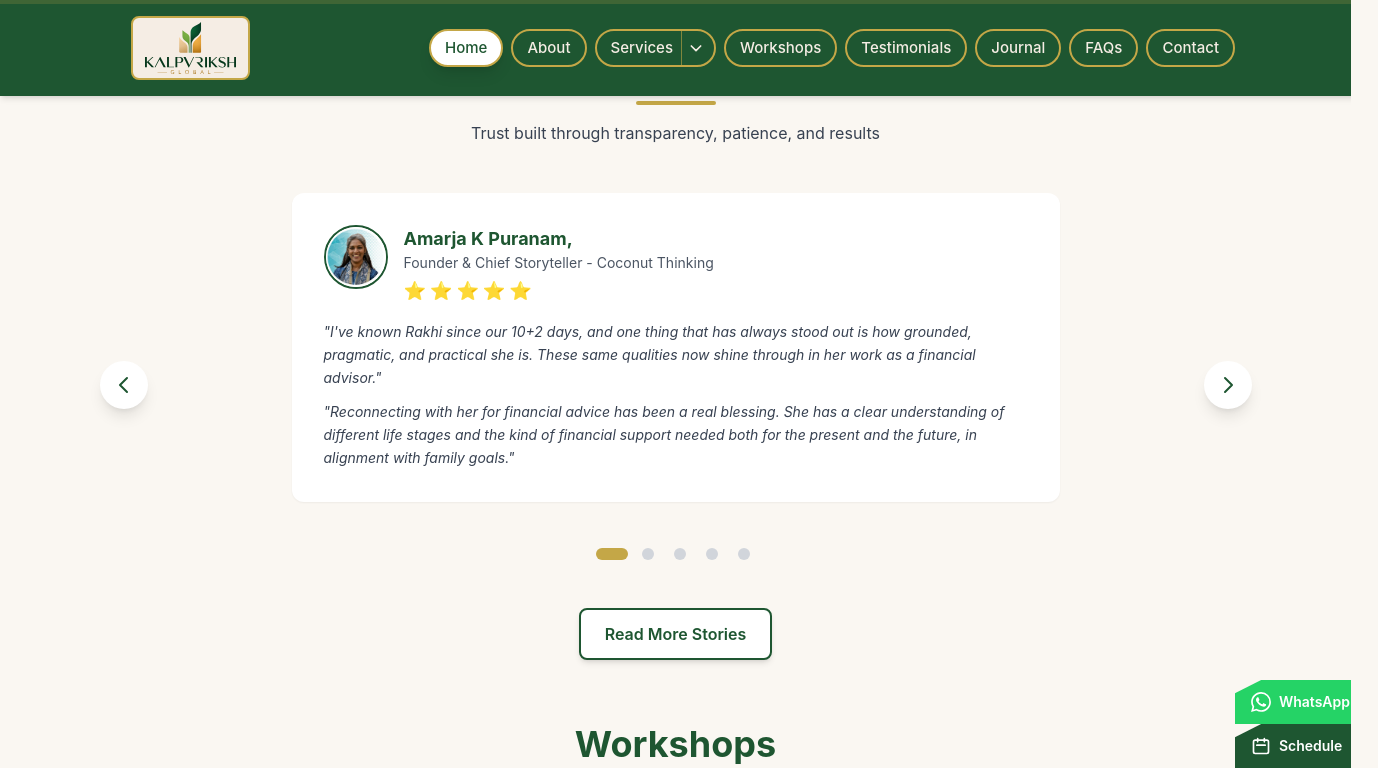
Test: the testimonial carousel can be moved by hand
(page scrolled)
Step 1. Click the button named "Next testimonial" → (1228, 385), box [1204, 361, 1252, 409]
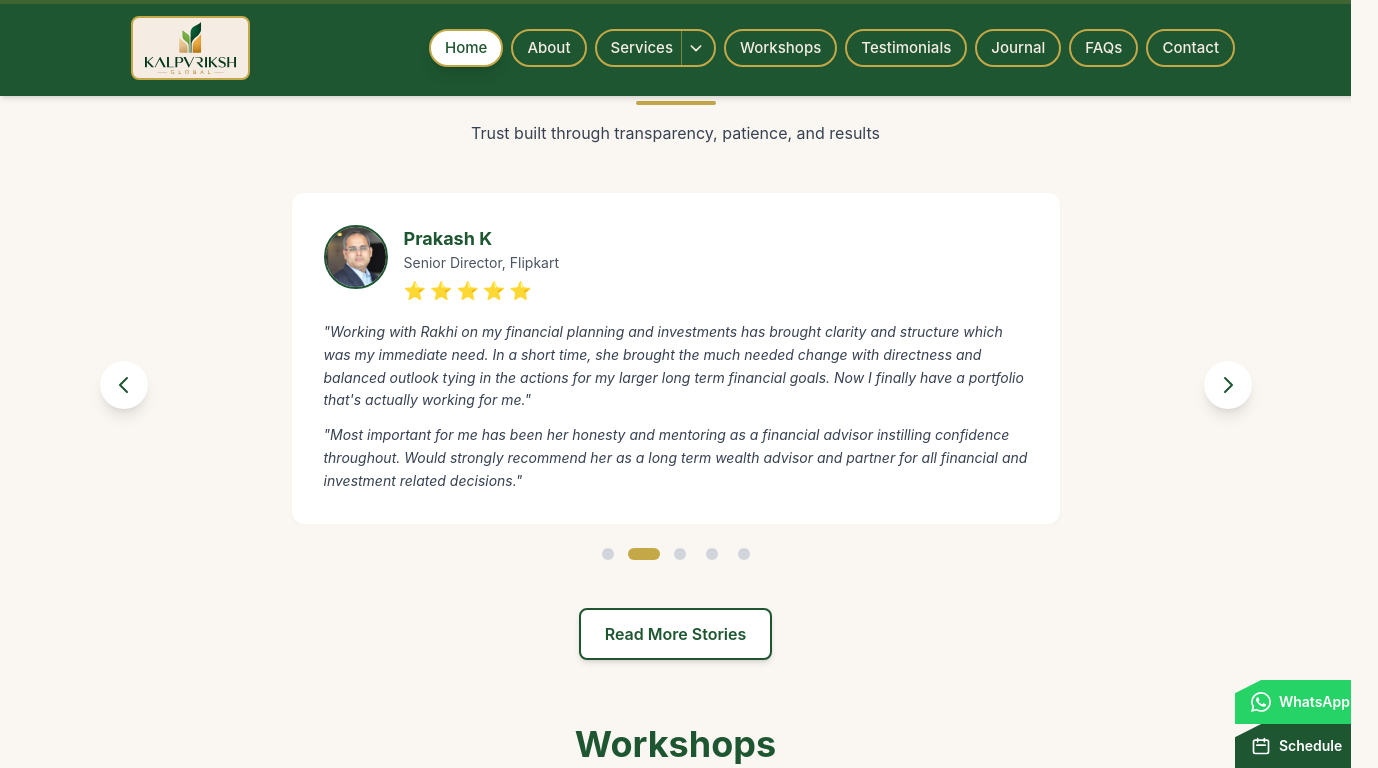
Expected: the button named "Go to testimonial 2" is marked as current, [624, 532, 664, 576]
Step 2. Click the button named "Previous testimonial" → (124, 385), box [100, 361, 148, 409]
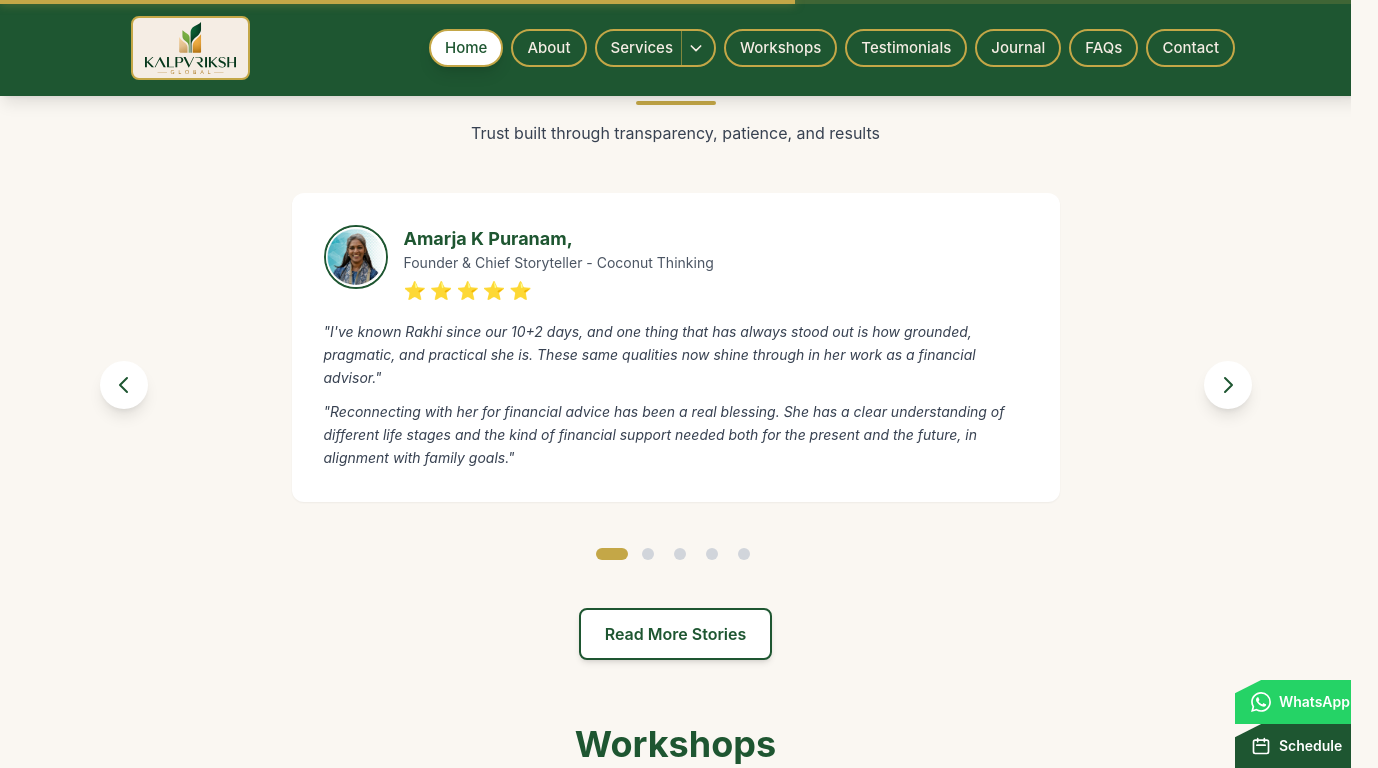
Expected: the button named "Go to testimonial 2" does not have attribute aria-current, [632, 532, 664, 576]
